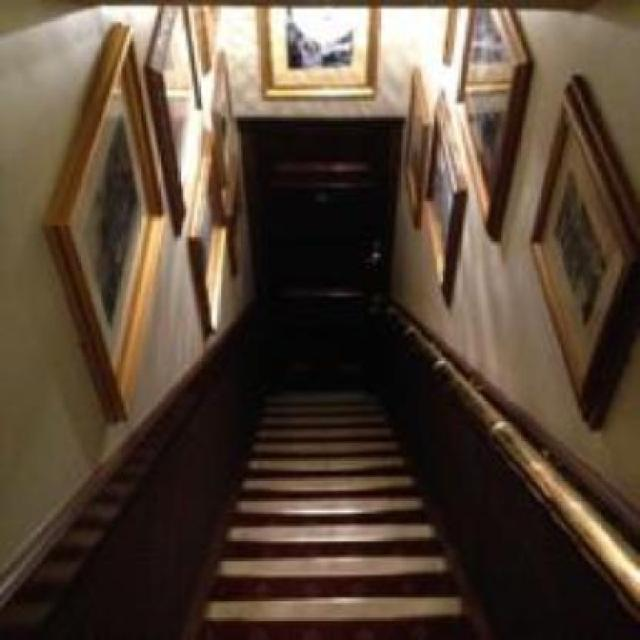stair: (213, 360, 472, 640)
